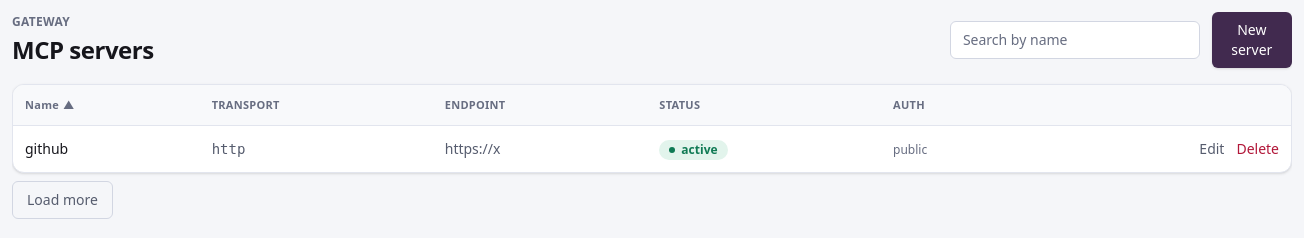
Test: ServersPage: searching issues ?q= with no cursor, and changing the search again resets paging again
Expected: the text "github" is shown, [13,125,200,172]
Type "git" into the search field named "Search servers" at [1075, 40], box [950,21,1200,59]
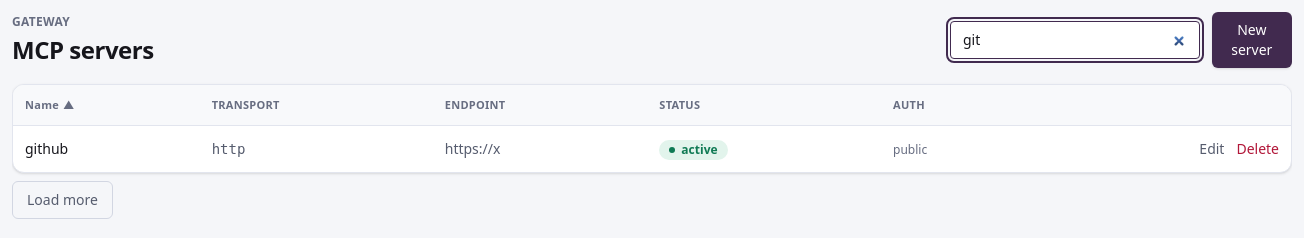
Expected: the text "github" is shown, [13,125,200,172]
accumulate a cursor under this search term
Click the button "Load more" at [62, 200], box [12,181,113,219]
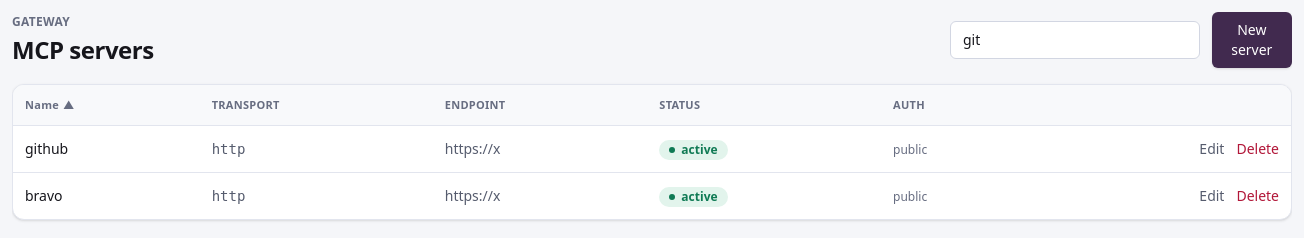
Result: the text "bravo" is shown at [13,172,200,219]
changing the search term again must drop that cursor, not replay it
Replace the text in the search field named "Search servers" with "lab" at [1075, 40], box [950,21,1200,59]
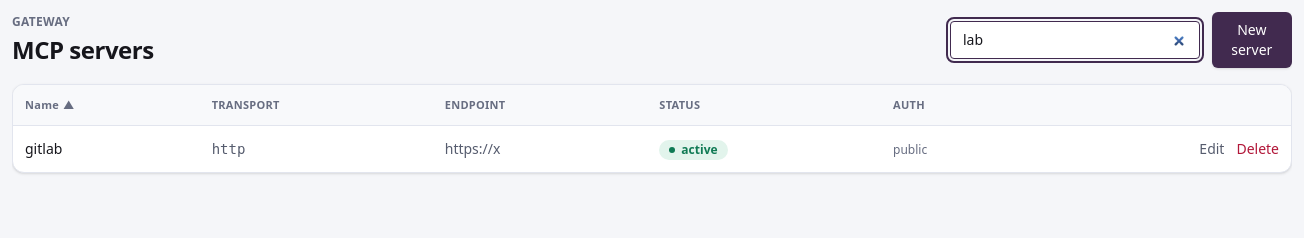
Result: the text "gitlab" is shown at [13,125,200,172]
Result: the text "bravo" is gone
